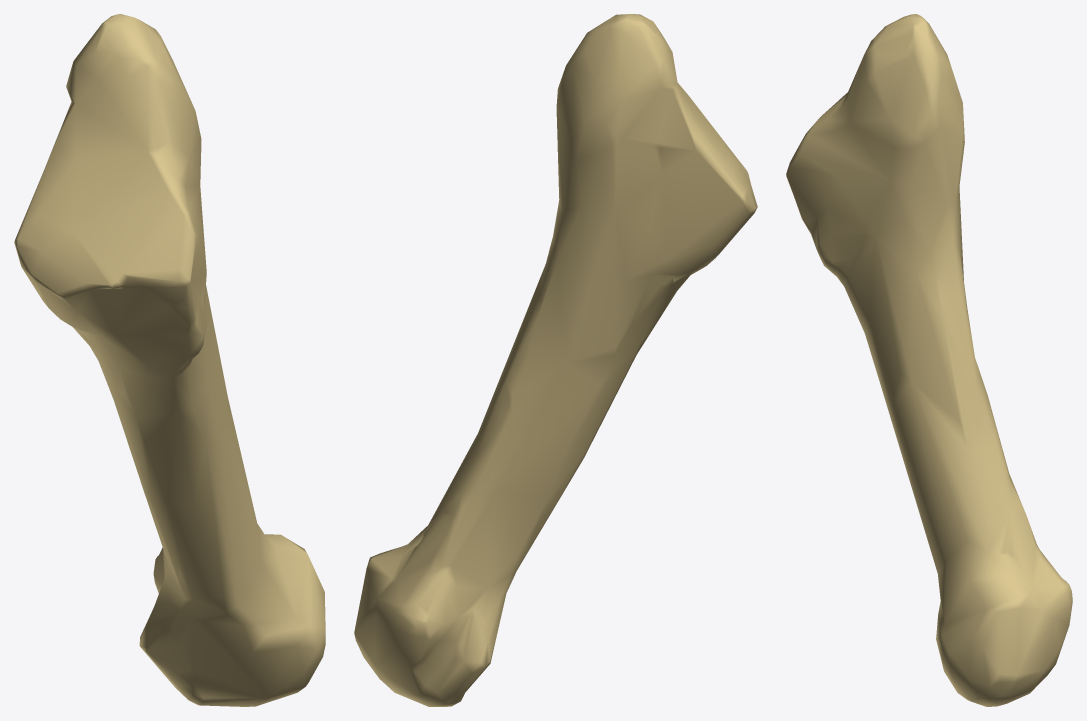
3 renders of one model, left to right at view 1: azimuth 30°, elevation 25°; view 2: azimuth 150°, elevation 25°; view 3: azimuth 270°, elevation 25°, orthographic. The views are drawn at different scales.
Visible parts, largest first — view 1: 左侧第五跖骨; view 2: 左侧第五跖骨; view 3: 左侧第五跖骨.
Part boxes in pixels (bbox=[...]): 左侧第五跖骨: bbox=[14, 14, 325, 706]; 左侧第五跖骨: bbox=[354, 14, 757, 706]; 左侧第五跖骨: bbox=[786, 14, 1072, 706].
Size of the model in its own units: 0.0546 by 0.1086 by 0.0459.
